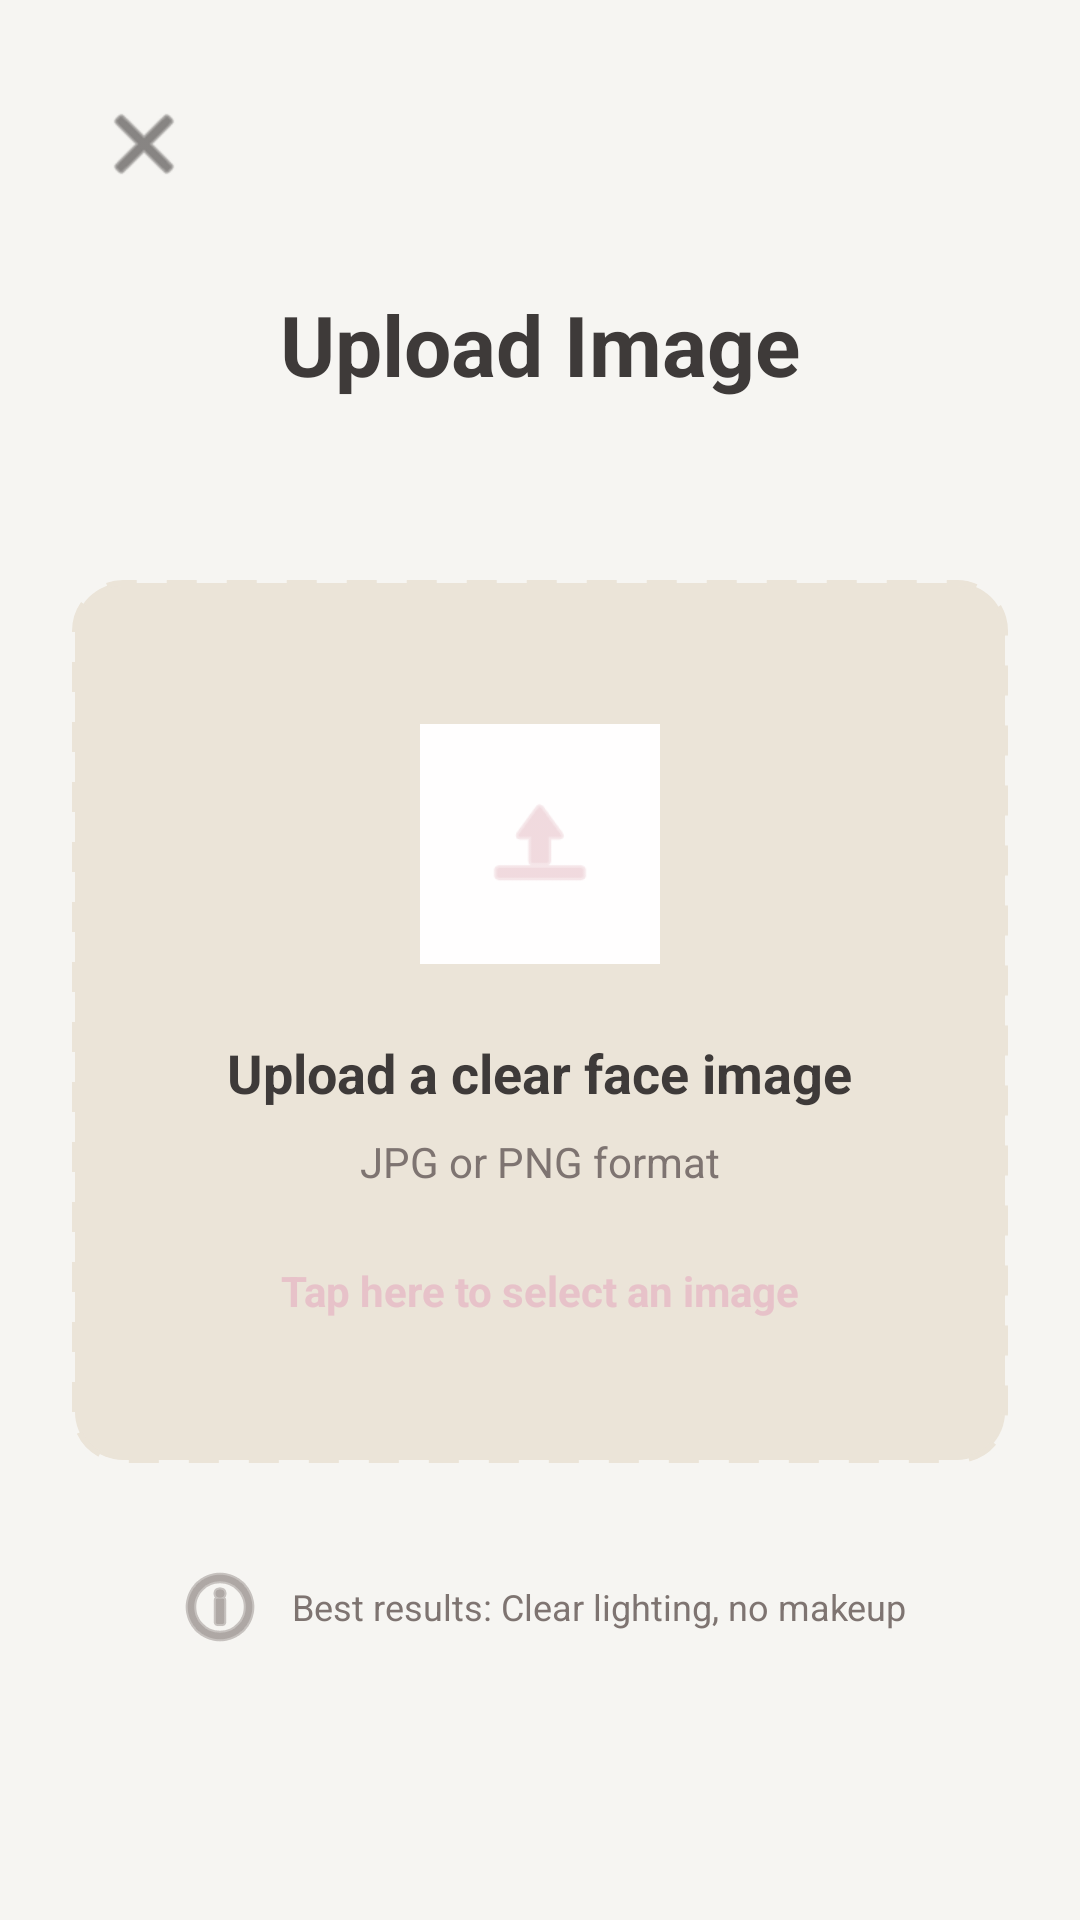

Locate icon controls on the screen. Image size 1080w x 1920h, boxes as (x1, y1, x2, y2).
Close upload: (114, 114, 174, 174)
